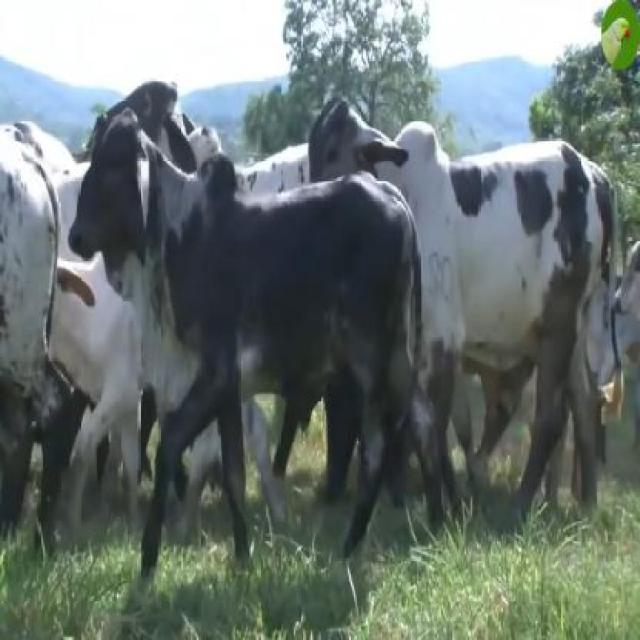Cow: (71, 111, 423, 558)
